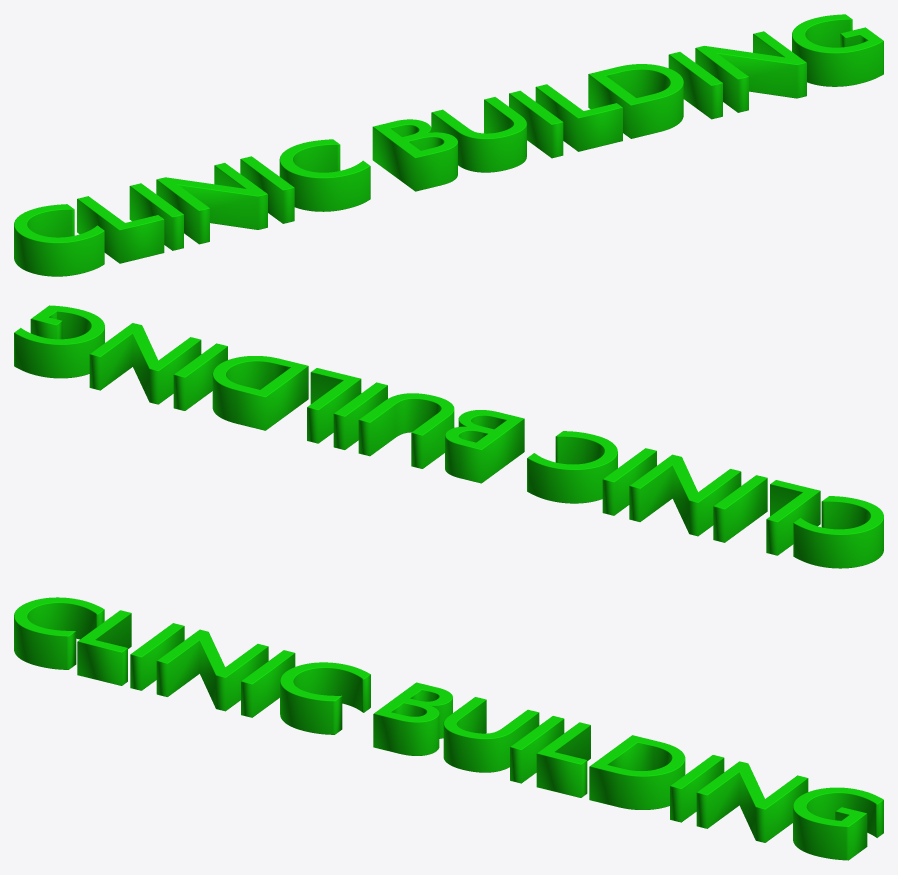
Rendered from clinic_building.glb.
3 renders of one model, top to bottom at view 1: azimuth 30°, elevation 25°; view 2: azimuth 150°, elevation 25°; view 3: azimuth 330°, elevation 25°, orthographic.
Parts seen in each view (by area): view 1: Text.004; view 2: Text.004; view 3: Text.004.
Boxes of the visible parts, x1,y1,x2,y2 form: Text.004: [14, 14, 883, 276]; Text.004: [14, 305, 883, 568]; Text.004: [14, 597, 883, 860].
Size of the model in its own units: 16.1 by 0.62 by 1.45.
